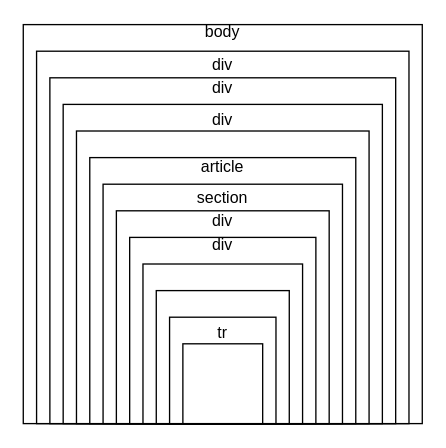
The diagram is 446 pixels wide and 448 high, and some of its shapes have lost their labels. The box of each missing label's shape, as (x1, y1, x2, y2) in pixels:
main: (75, 130, 369, 424)
table: (142, 263, 303, 424)
tbody: (155, 289, 289, 424)
td: (182, 342, 263, 424)
